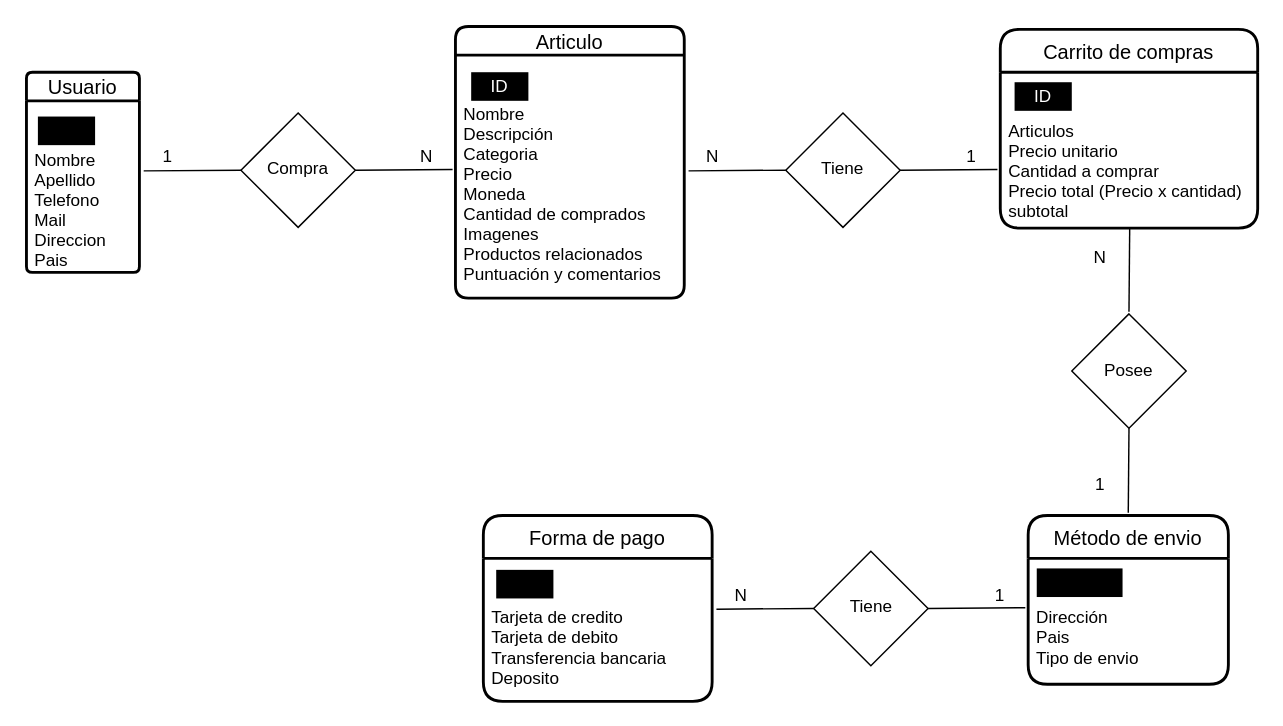
Some shapes in this 1283 by 726 pixel diagram are drawn without their labels. Here are the shapes that lost their labels. From the top down, the centre of each, then its label:
(65,130): Cédula
(524,583): Pago
(1079,582): Cod.envio
